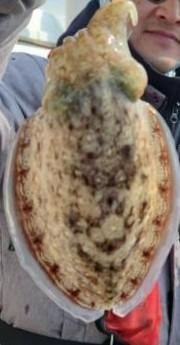Cephalopod: (4, 0, 179, 325)
